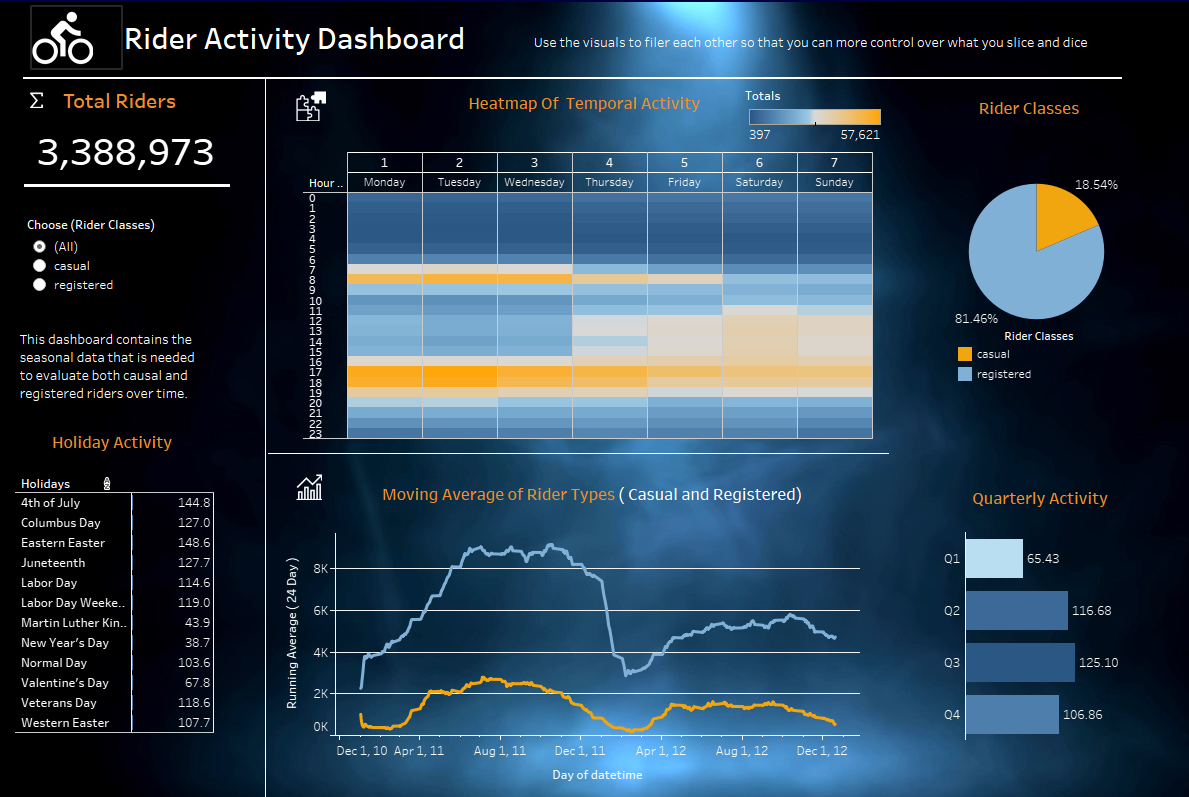

This screenshot's page, from the dashboard's own definition file:
{"tool":"tableau","page":{"name":"Dashboard 1","canvas":[1200,800],"ordinal":0},"visuals":[{"type":"text","box":[872,8,160,86]},{"type":"text","box":[22,56,233,98]},{"type":"blank","box":[314,67,3,729]},{"type":"legend","title":"Heatmap","param":"[federated.1mq3cv60re31qi1b3efpt12j0zic].[sum:Pivot Field Values:qk]","box":[776,73,140,100]},{"type":"text","box":[400,87,341,34]},{"type":"text","box":[991,90,159,34]},{"type":"worksheet","title":"Sheet 6","mark":"Automatic","box":[20,106,273,102]},{"type":"worksheet","title":"Piechart","mark":"Pie","box":[931,140,258,233]},{"type":"worksheet","title":"Heatmap","mark":"Automatic","rows":["datetime"],"cols":["datetime","Calculation_1168121203413442583"],"box":[321,143,594,338]},{"type":"blank","box":[22,195,253,4]},{"type":"filter","title":"Piechart","param":"[federated.1mq3cv60re31qi1b3efpt12j0zic].[none:Pivot Field Names:nk]","box":[22,212,261,129]},{"type":"text","box":[19,334,275,103]},{"type":"legend","title":"line chart","param":"[federated.1mq3cv60re31qi1b3efpt12j0zic].[none:Pivot Field Names:nk]","box":[969,393,140,76]},{"type":"worksheet","title":"Holiday","mark":"Automatic","rows":["Calculation_1168121203404386307"],"box":[19,432,271,359]},{"type":"blank","box":[0,446,314,3]},{"type":"worksheet","title":"line chart","mark":"Automatic","rows":["Calculation_1168121203408744454"],"cols":["datetime"],"box":[341,482,528,320]},{"type":"text","box":[454,496,336,30]},{"type":"text","box":[967,497,187,30]},{"type":"worksheet","title":"Sheet 7","mark":"Bar","rows":["datetime"],"cols":["Pivot Field Values"],"box":[837,506,348,288]}]}

Visuals, with their boxes in screenshot pixels (x1, y1, x2, y2), scaled from the page's 1200x800 canvas onto the 1189x797 screenshot:
text: box(864, 8, 1023, 94)
text: box(22, 56, 253, 153)
blank: box(311, 67, 314, 793)
"Heatmap" legend: box(769, 73, 908, 172)
text: box(396, 87, 734, 121)
text: box(982, 90, 1139, 124)
"Sheet 6" worksheet: box(20, 106, 290, 207)
"Piechart" worksheet (Pie marks): box(922, 139, 1178, 372)
"Heatmap" worksheet: box(318, 142, 907, 479)
blank: box(22, 194, 272, 198)
"Piechart" filter: box(22, 211, 280, 340)
text: box(19, 333, 291, 435)
"line chart" legend: box(960, 392, 1099, 467)
"Holiday" worksheet: box(19, 430, 287, 788)
blank: box(0, 444, 311, 447)
"line chart" worksheet: box(338, 480, 861, 796)
text: box(450, 494, 783, 524)
text: box(958, 495, 1143, 525)
"Sheet 7" worksheet (Bar marks): box(829, 504, 1174, 791)
